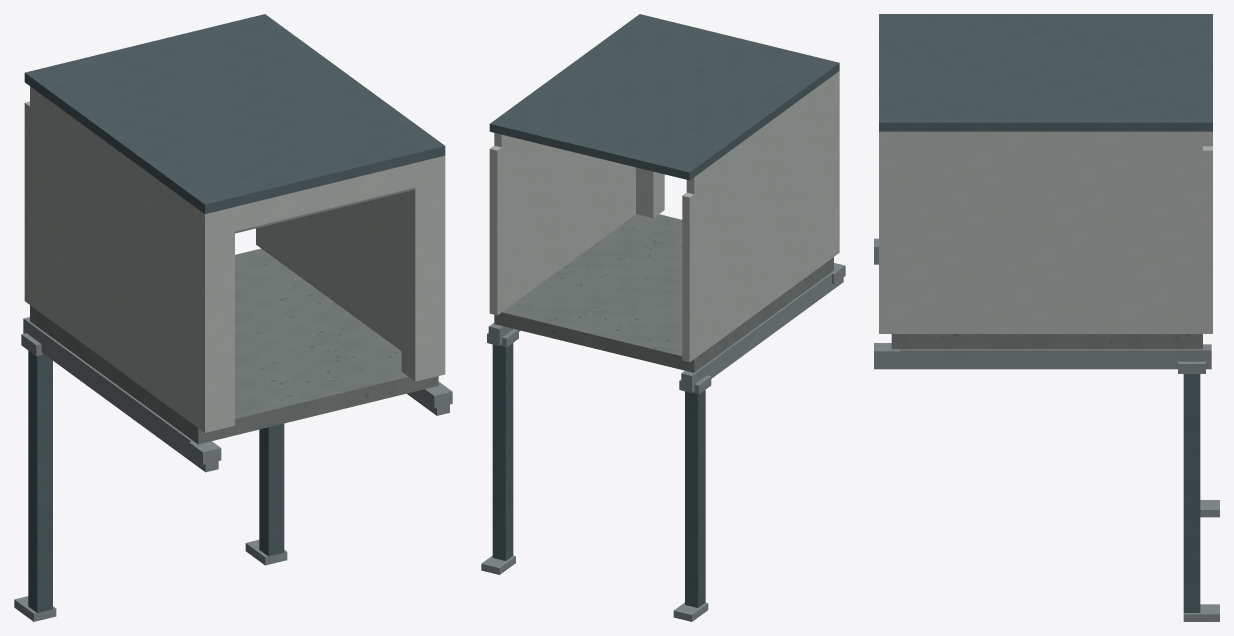
The model's file is AST-RES-TIDAL_D14_shared_receiver_r001.glb.
3 renders of one model, left to right at view 1: azimuth 30°, elevation 25°; view 2: azimuth 150°, elevation 25°; view 3: azimuth 270°, elevation 25°, orthographic. The views are drawn at different scales.
Parts seen in each view (by area): view 1: D14_LinkRoof, D14_LinkSide_West, D14_SharedReceiverMissingFloor, D14_LinkSide_East, D14_SharedPortalInfill_East, D14_SharedPortalInfill_West, D14_SharedPortalHeader, D14_LinkPost_West, D14_LinkReceivingBeam_West, D14_LinkPost_East, D14_ServiceOpeningReveal_West; view 2: D14_LinkRoof, D14_LinkSide_West, D14_SharedReceiverMissingFloor, D14_LinkSide_East, D14_LinkPost_East, D14_LinkPost_West, D14_LinkReceivingBeam_West, D14_ServiceOpeningReveal_West, D14_ServiceOpeningReveal_East, D14_SharedPortalInfill_West, D14_SharedPortalInfill_East; view 3: D14_LinkSide_East, D14_LinkRoof, D14_LinkReceivingBeam_East, D14_SharedReceiverMissingFloor, D14_LinkPost_East, D14_SharedPortalInfill_East, D14_ServiceOpeningReveal_East, D14_SharedPortalHeader, D14_LinkFloorToe_East.
Part boxes in pixels (x1,y1,x2,y2): D14_LinkRoof: [24, 14, 445, 213]; D14_LinkSide_West: [30, 86, 198, 427]; D14_SharedReceiverMissingFloor: [30, 248, 438, 444]; D14_LinkSide_East: [261, 193, 401, 350]; D14_SharedPortalInfill_East: [401, 180, 445, 381]; D14_SharedPortalInfill_West: [191, 229, 234, 432]; D14_SharedPortalHeader: [191, 155, 445, 238]; D14_LinkPost_West: [28, 350, 52, 612]; D14_LinkReceivingBeam_West: [23, 317, 218, 472]; D14_LinkPost_East: [259, 423, 284, 556]; D14_ServiceOpeningReveal_West: [24, 101, 29, 304]; D14_LinkRoof: [489, 14, 839, 180]; D14_LinkSide_West: [686, 79, 828, 358]; D14_SharedReceiverMissingFloor: [494, 214, 833, 372]; D14_LinkSide_East: [494, 133, 635, 311]; D14_LinkPost_East: [492, 343, 513, 560]; D14_LinkPost_West: [685, 390, 705, 607]; D14_LinkReceivingBeam_West: [681, 273, 843, 392]; D14_ServiceOpeningReveal_West: [682, 192, 694, 362]; D14_ServiceOpeningReveal_East: [489, 145, 501, 315]; D14_SharedPortalInfill_West: [828, 91, 839, 260]; D14_SharedPortalInfill_East: [636, 167, 664, 218]; D14_LinkSide_East: [891, 131, 1202, 333]; D14_LinkRoof: [879, 14, 1212, 131]; D14_LinkReceivingBeam_East: [874, 344, 1211, 369]; D14_SharedReceiverMissingFloor: [891, 334, 1202, 349]; D14_LinkPost_East: [1183, 374, 1200, 612]; D14_SharedPortalInfill_East: [879, 154, 903, 333]; D14_ServiceOpeningReveal_East: [1203, 146, 1212, 333]; D14_SharedPortalHeader: [879, 131, 903, 154]; D14_LinkFloorToe_East: [1183, 604, 1219, 621].
Bounding box in the file's own units: 3.9 × 7.84 × 4.95.
5 materials, 5 textured.
